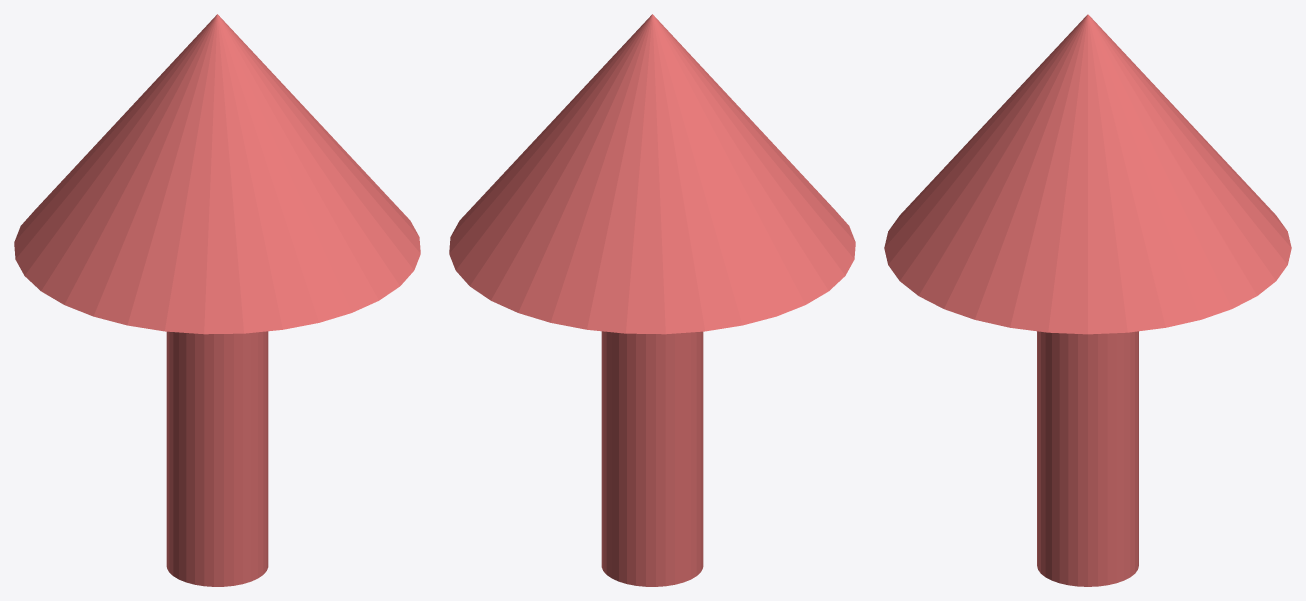
The picture shows the model from 3 angles, left to right: view 1: azimuth 30°, elevation 25°; view 2: azimuth 150°, elevation 25°; view 3: azimuth 270°, elevation 25°; orthographic projection.
Visible parts, largest first — view 1: Cone, Cylinder; view 2: Cone, Cylinder; view 3: Cone, Cylinder.
Part boxes in pixels (<box>): Cone: <box>14,14,420,334</box>; Cylinder: <box>166,331,268,586</box>; Cone: <box>449,14,855,334</box>; Cylinder: <box>601,331,703,586</box>; Cone: <box>884,14,1291,334</box>; Cylinder: <box>1037,331,1138,586</box>.
Bounding box in the file's own units: 2 × 2.99 × 2.
